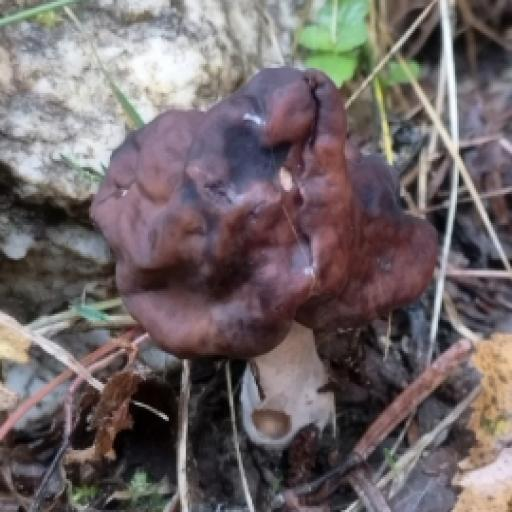mushroom: (90, 54, 441, 427)
